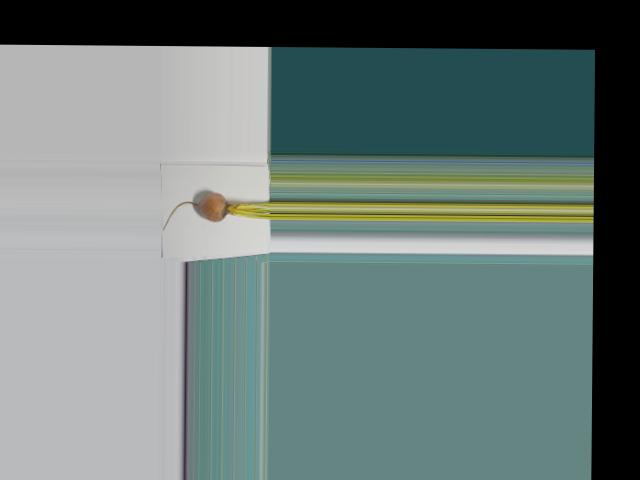beet: (163, 192, 270, 230)
